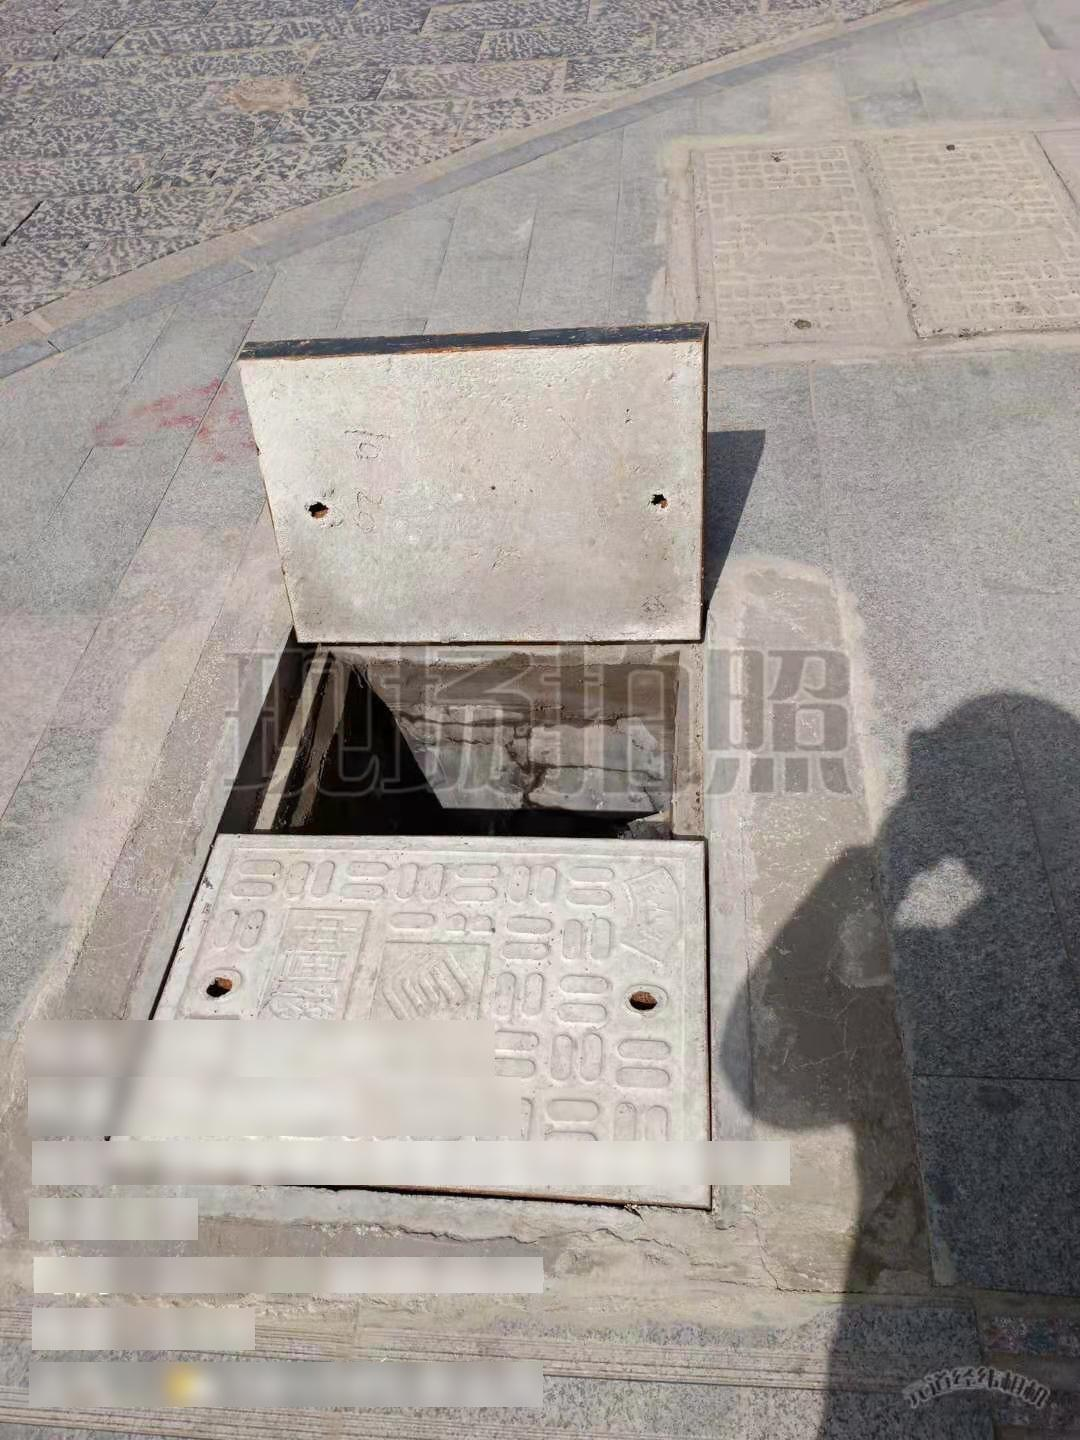wellcover: (116, 323, 821, 1268)
